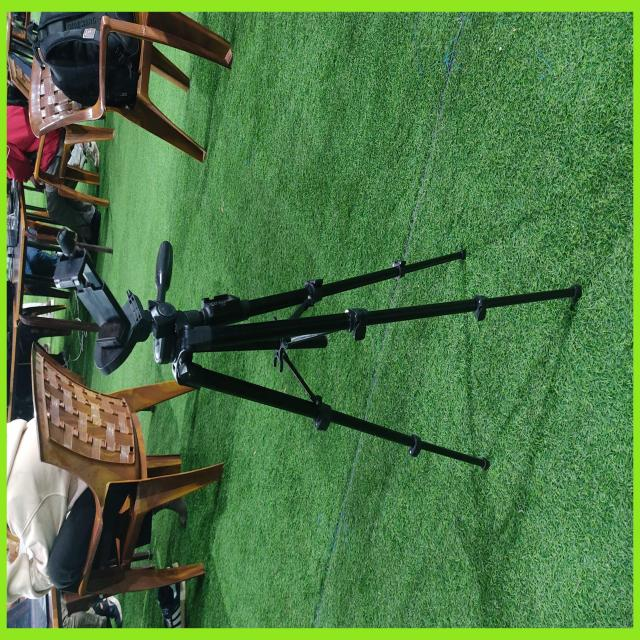Camer Stand: (65, 238, 583, 474)
Chair: (30, 339, 224, 627)
